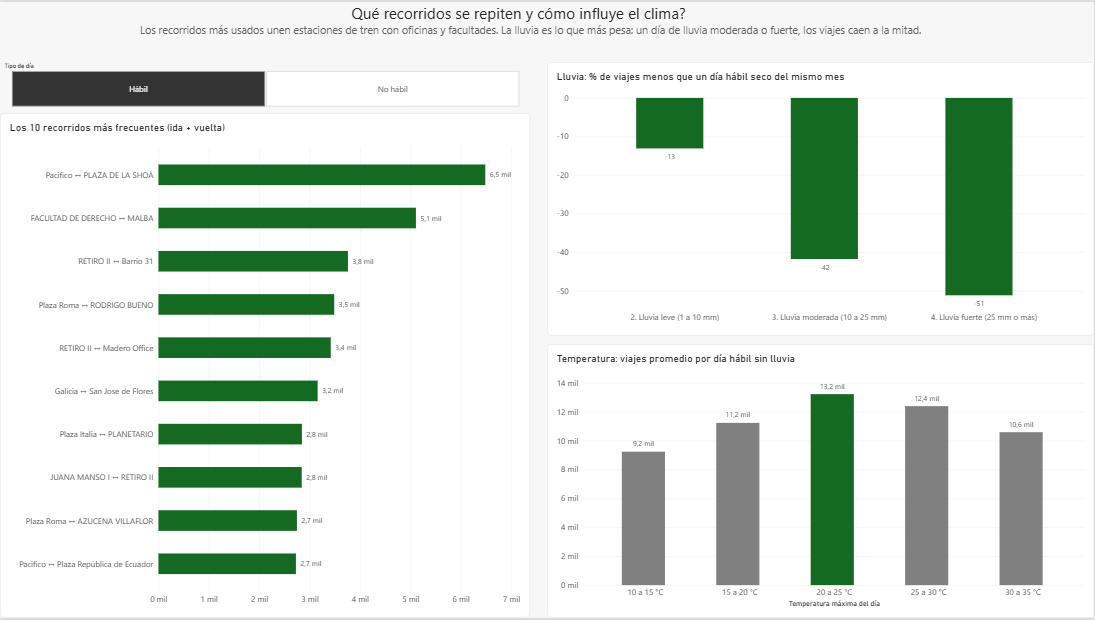

Layout of this report page (visuals, bound fields, positions):
{"tool":"powerbi","page":{"name":"recorridos-clima","canvas":[1920,1080],"ordinal":2},"visuals":[{"type":"slicer","fields":{"Values":["top_recorridos.tipo_dia"]},"box":[0,105,930,80],"z":0},{"type":"clusteredBarChart","title":"Los 10 recorridos más frecuentes (ida + vuelta)","fields":{"Category":["top_recorridos.recorrido"],"Y":["Sum(top_recorridos.viajes)"]},"box":[0,195,930,885],"z":1000},{"type":"clusteredColumnChart","title":"Lluvia: % de viajes menos que un día hábil seco del mismo mes","fields":{"Category":["efecto_lluvia.categoria_lluvia"],"Y":["Sum(efecto_lluvia.variacion_vs_dia_seco_pct)"]},"box":[960,105,960,480],"z":1001},{"type":"clusteredColumnChart","title":"Temperatura: viajes promedio por día hábil sin lluvia","fields":{"Category":["efecto_temperatura.rango"],"Y":["Sum(efecto_temperatura.viajes_promedio)"]},"box":[959.6,600,960,480],"z":1002},{"type":"textbox","box":[0,0,1820,100],"z":1003}]}

Visuals, with their boxes in screenshot pixels (x1, y1, x2, y2), scaled from the page's 1920x1080 canvas onto the 1095x620 screenshot:
slicer - top_recorridos.tipo_dia: [0, 60, 530, 106]
"Los 10 recorridos más frecuentes (ida + vuelta)" clusteredBarChart: [0, 112, 530, 619]
"Lluvia: % de viajes menos que un día hábil seco del mismo mes" clusteredColumnChart: [548, 60, 1094, 336]
"Temperatura: viajes promedio por día hábil sin lluvia" clusteredColumnChart: [547, 344, 1094, 619]
textbox: [0, 0, 1038, 57]
